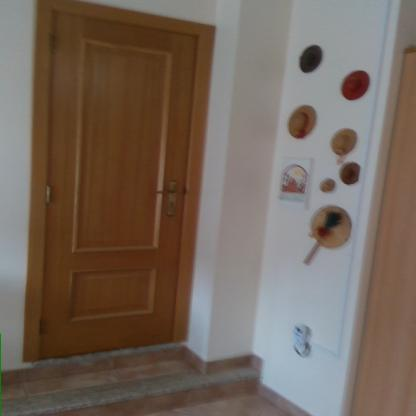closed: (18, 12, 231, 355)
